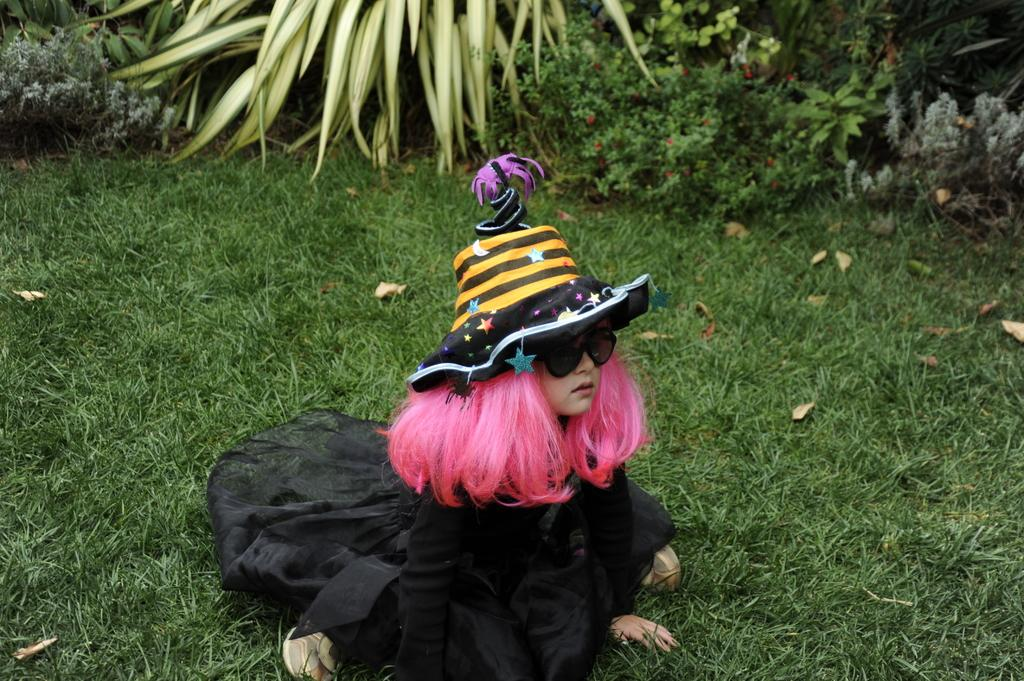Hat: (406, 151, 649, 392)
